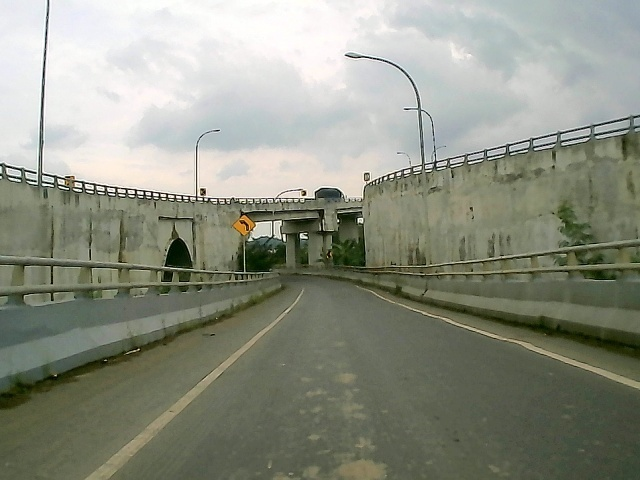Tikungan ke kiri: (231, 212, 257, 238)
